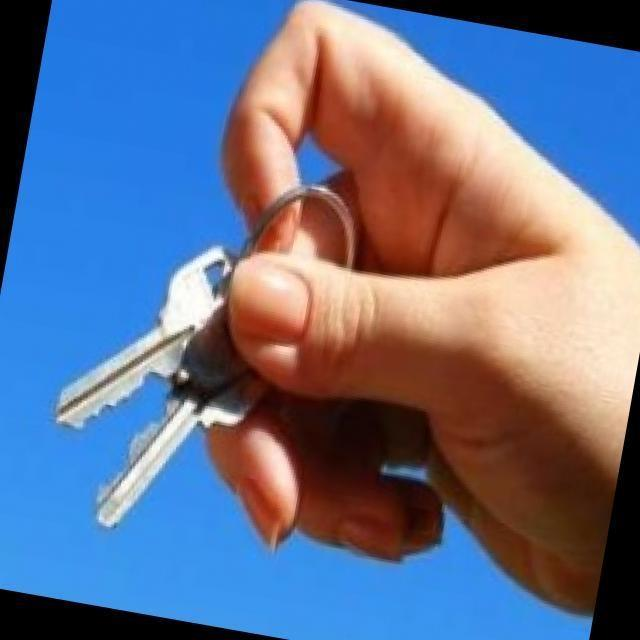Keys: (57, 186, 356, 526), (56, 247, 232, 428)
